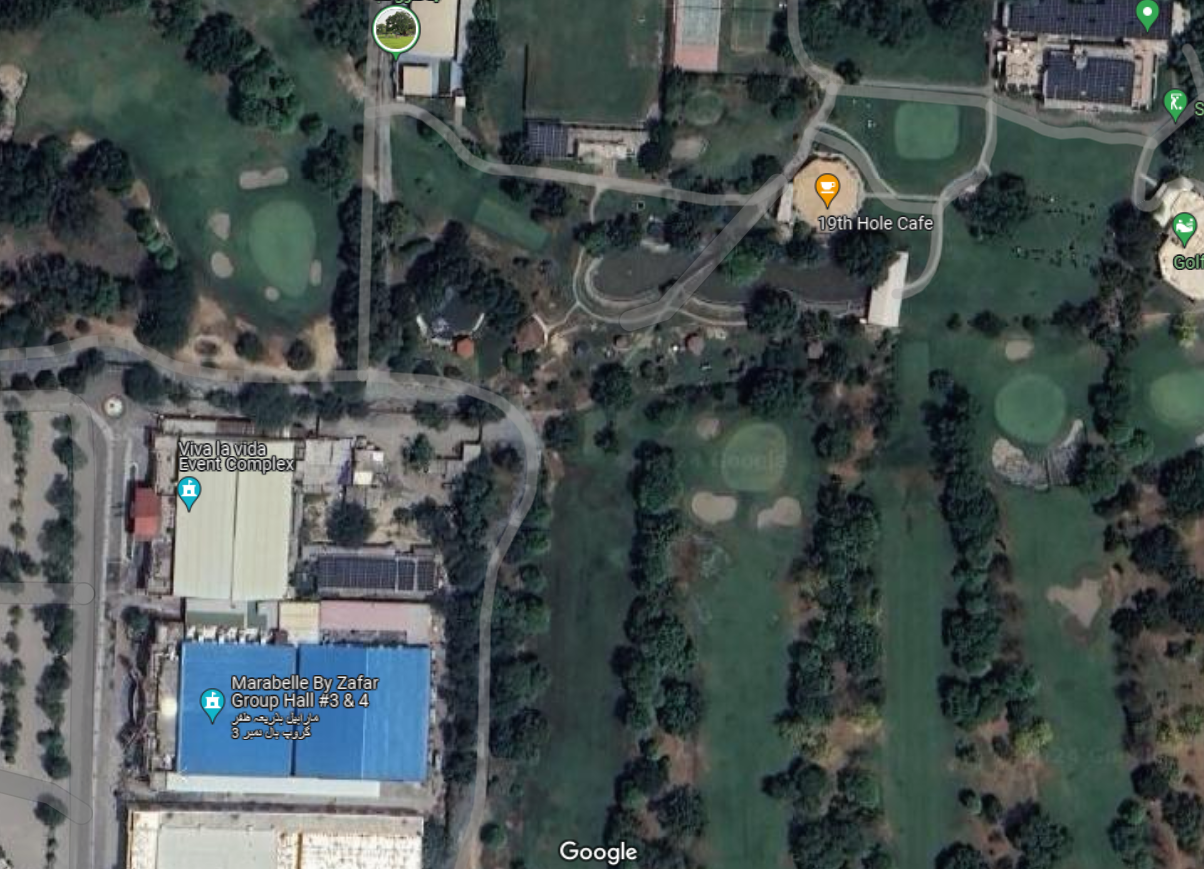solar-panel: (1002, 1, 1169, 39), (316, 548, 443, 594), (1053, 50, 1141, 109), (529, 123, 568, 153)
